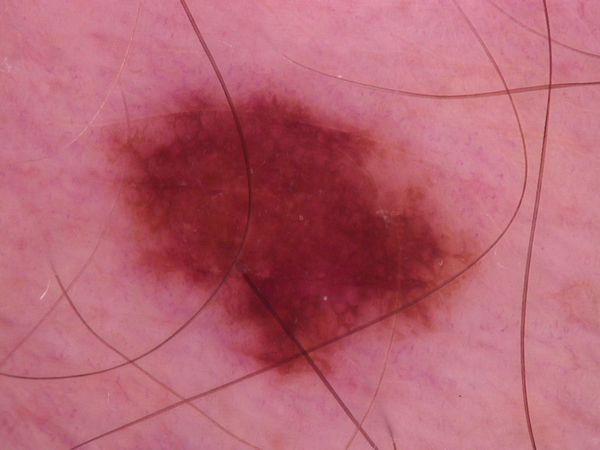Detected Lesion: (93, 80, 471, 383)
